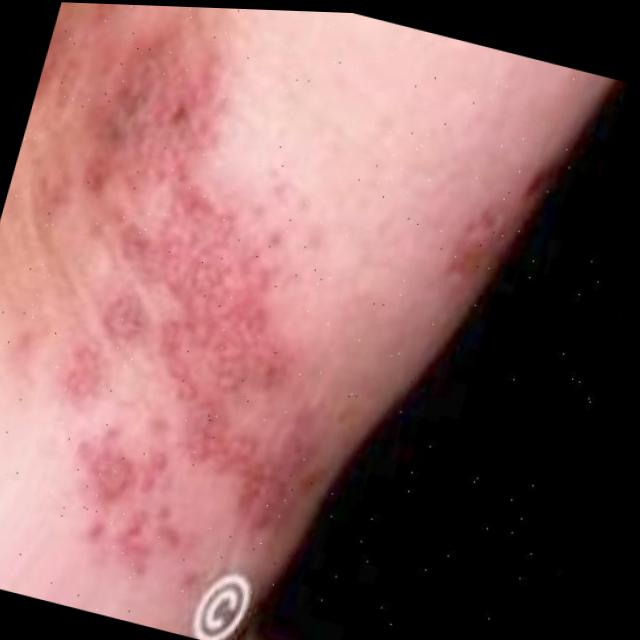Shingles: (0, 25, 413, 552)
